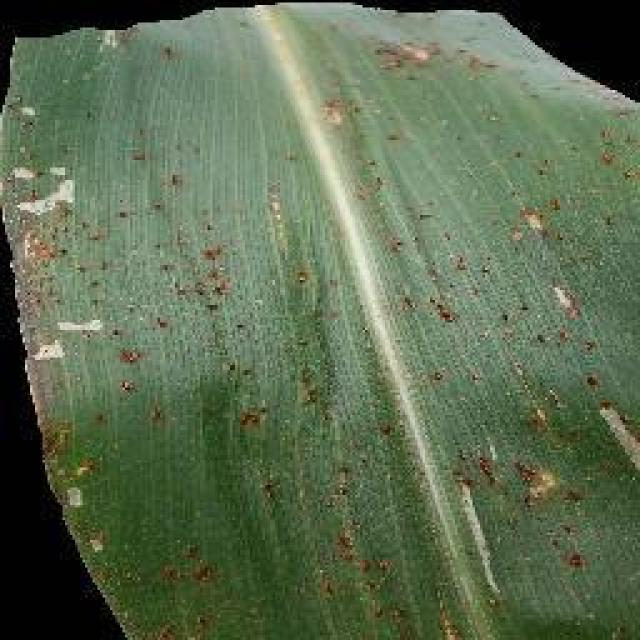Corn Common Rust: (0, 140, 410, 518)
